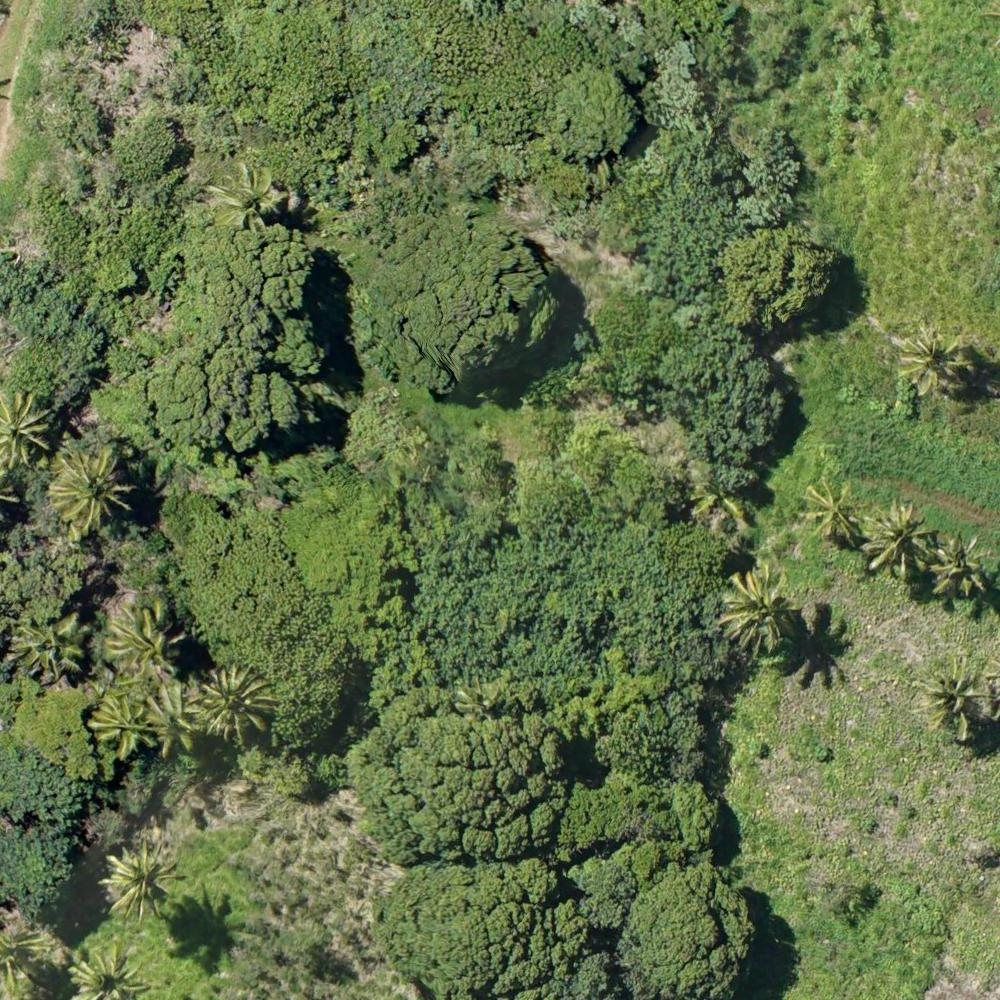Palm: (191, 664, 278, 746), (50, 452, 135, 530), (724, 569, 791, 654), (105, 608, 182, 680), (101, 842, 173, 917), (921, 656, 989, 733), (207, 166, 282, 233), (865, 504, 935, 575), (896, 328, 966, 397), (140, 680, 206, 748), (802, 472, 867, 541), (17, 612, 83, 679), (88, 695, 152, 756), (934, 531, 991, 596)
